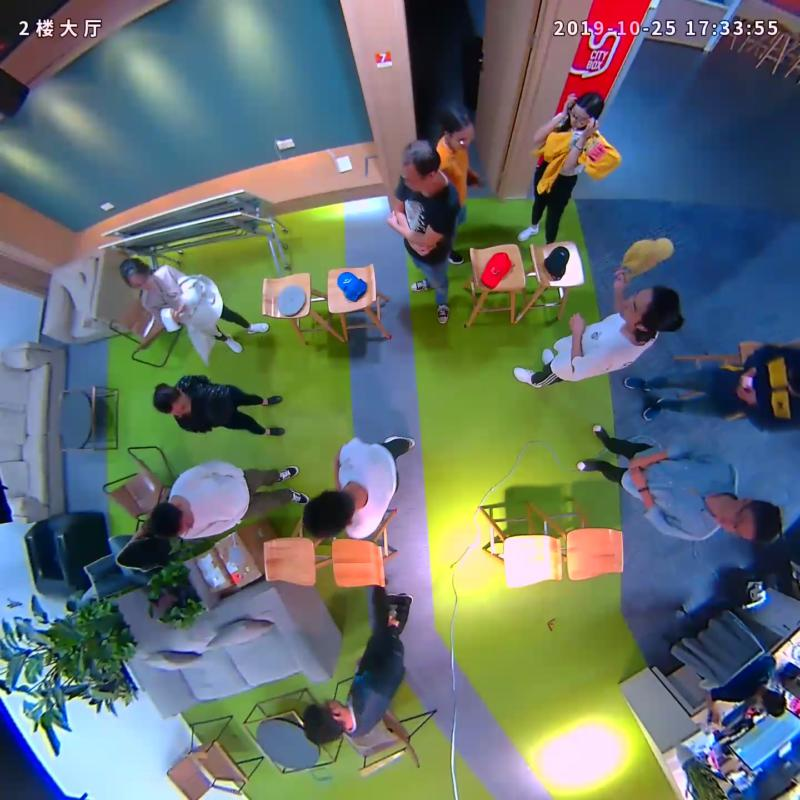head: (714, 497, 782, 544), (618, 285, 680, 332), (302, 490, 355, 540), (399, 138, 440, 192), (302, 698, 349, 745), (147, 498, 193, 539), (440, 101, 476, 152), (568, 92, 604, 127), (153, 383, 192, 415), (119, 257, 155, 291)
